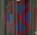No Stopping: (2, 0, 36, 33)
